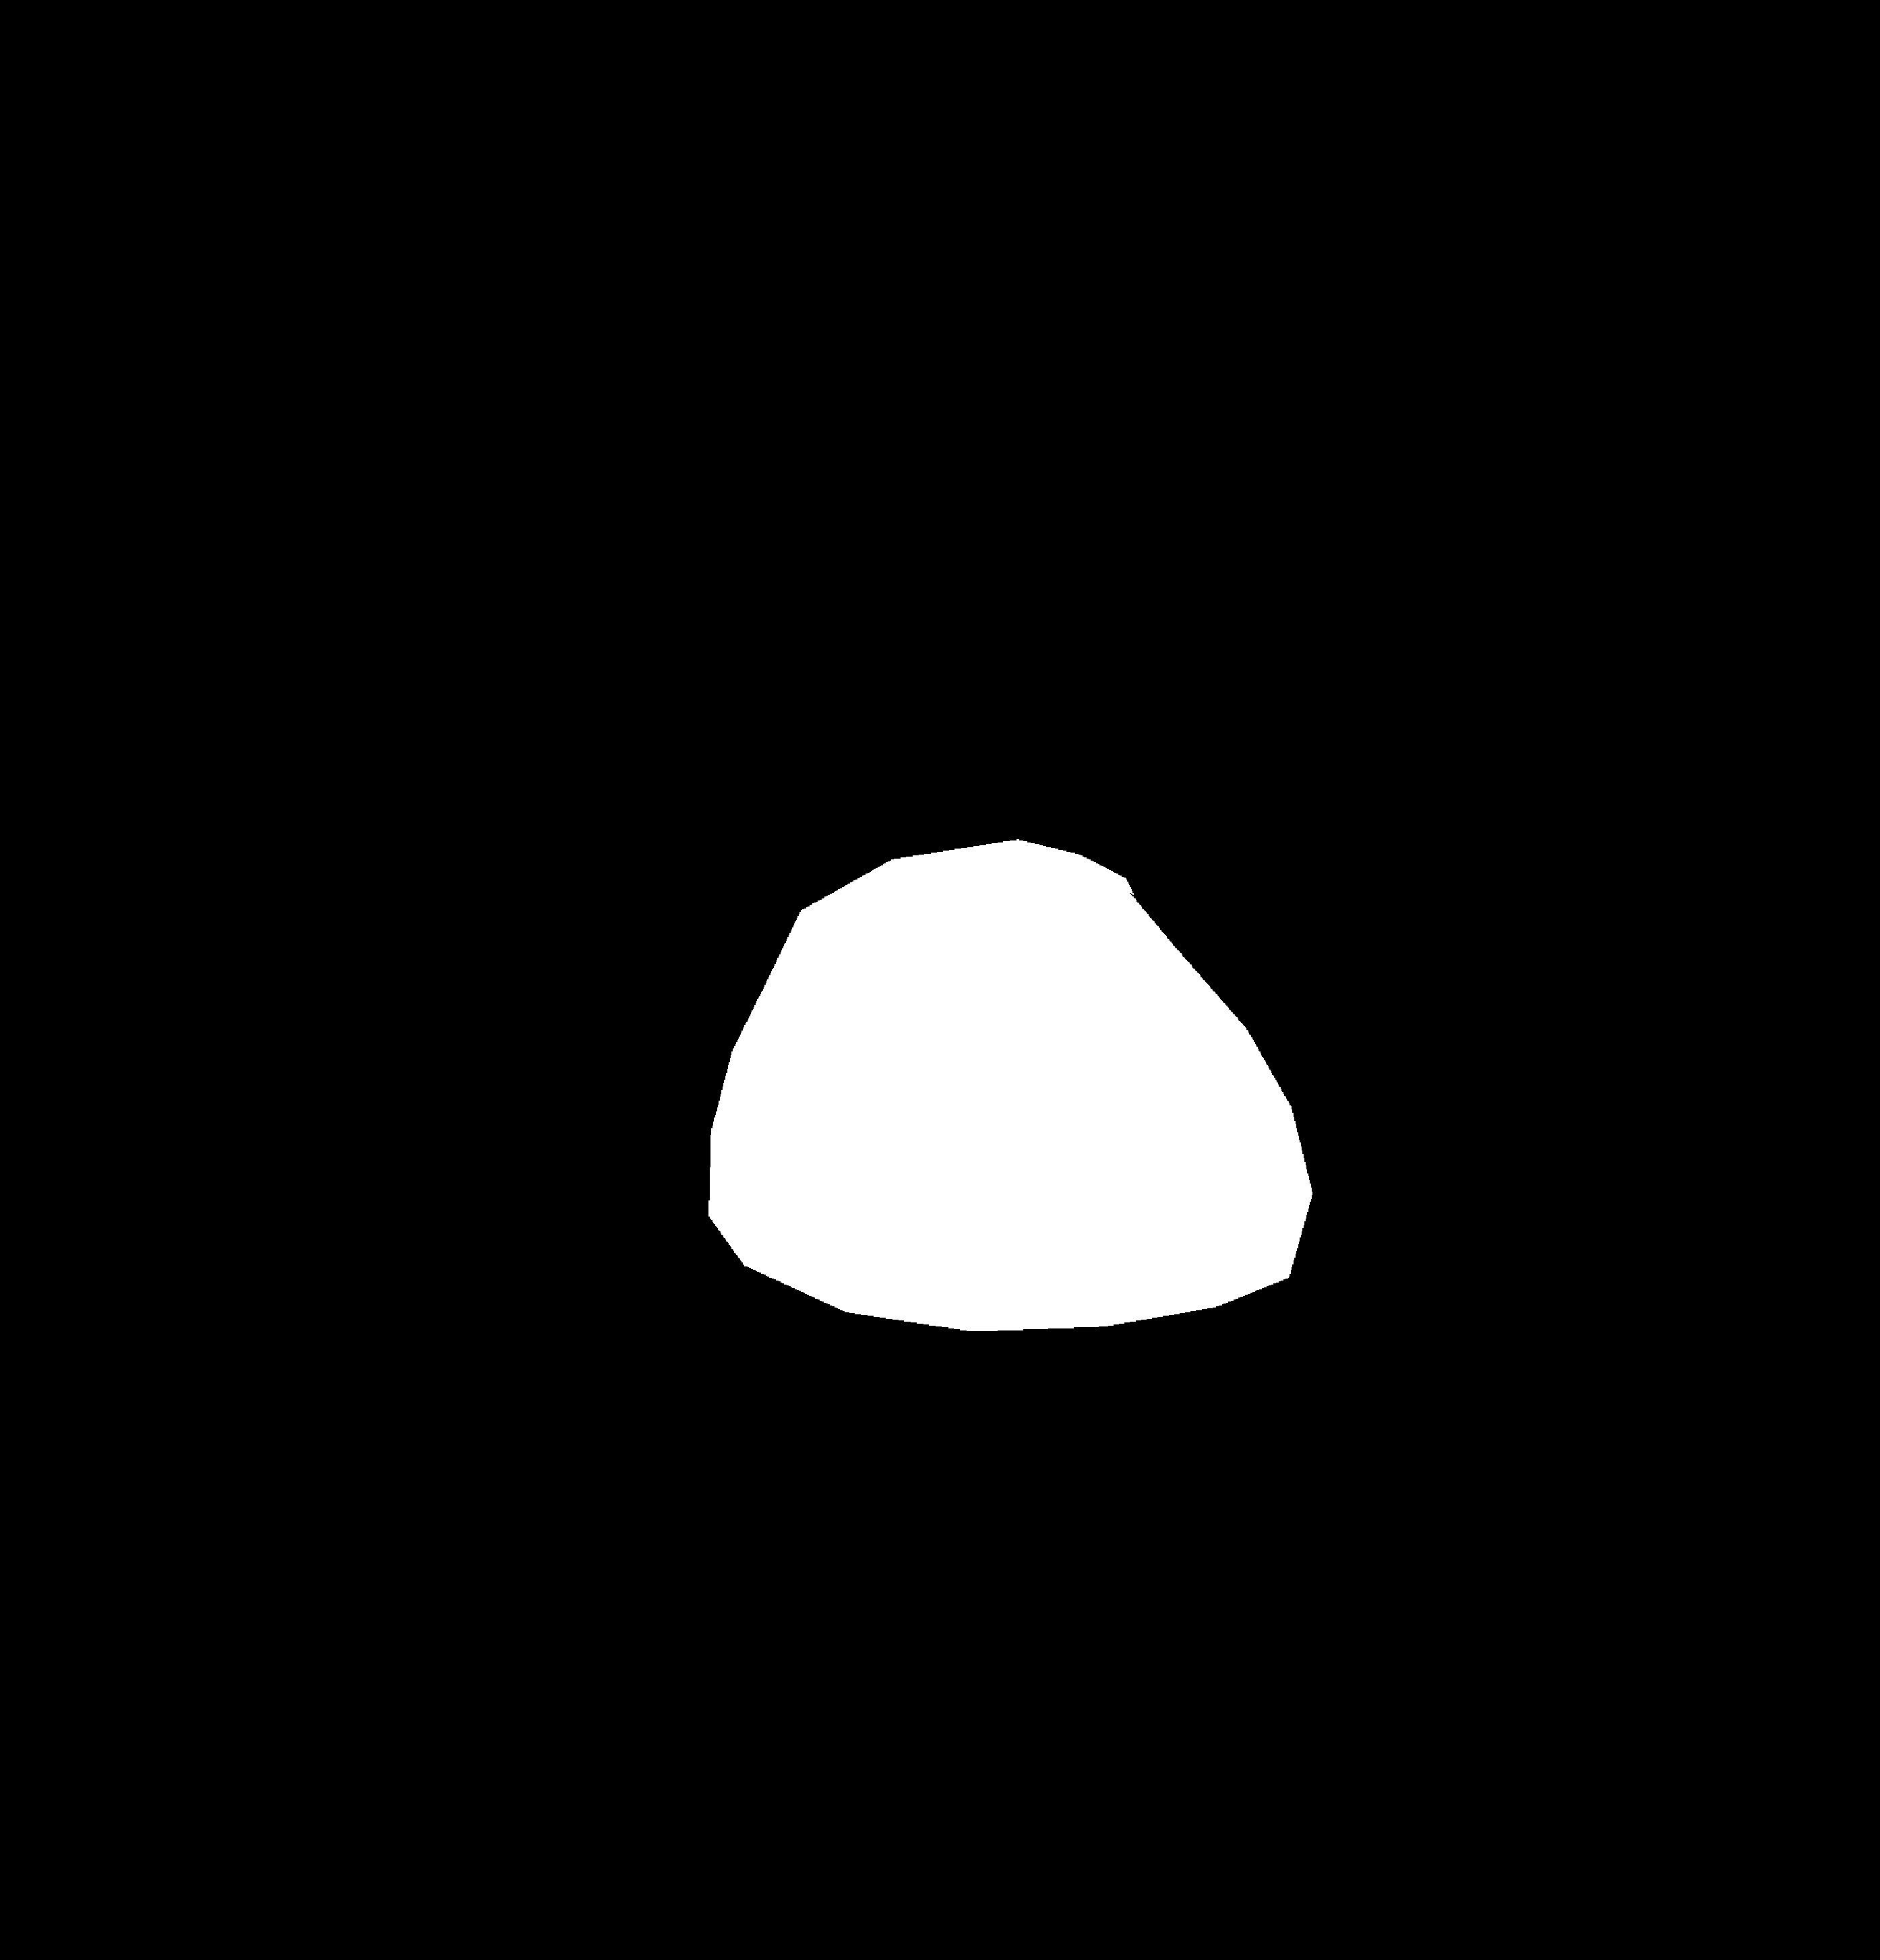heart: (707, 915, 1311, 1372)
left_lung: (275, 238, 875, 1361)
right_lung: (989, 185, 1567, 1505)
